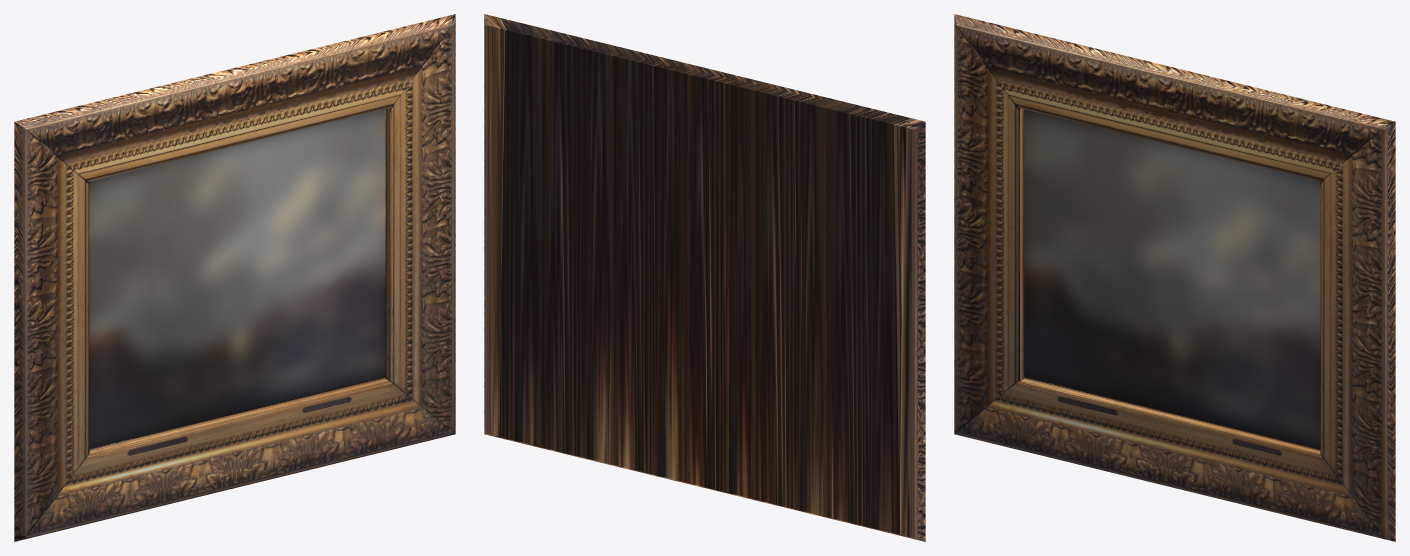
File: quadro 006.fbx
3 views of the same model, side by side, from view 1: azimuth 30°, elevation 25°; view 2: azimuth 150°, elevation 25°; view 3: azimuth 330°, elevation 25° (orthographic).
Parts seen in each view (by area): view 1: quadro 006; view 2: quadro 006; view 3: quadro 006.
Boxes of the visible parts, box(x1,y1,x2,y2) form: quadro 006: box(14, 14, 455, 541); quadro 006: box(484, 14, 925, 541); quadro 006: box(954, 14, 1395, 541).
Size of the model in its own units: 104 by 94.65 by 4.05.
